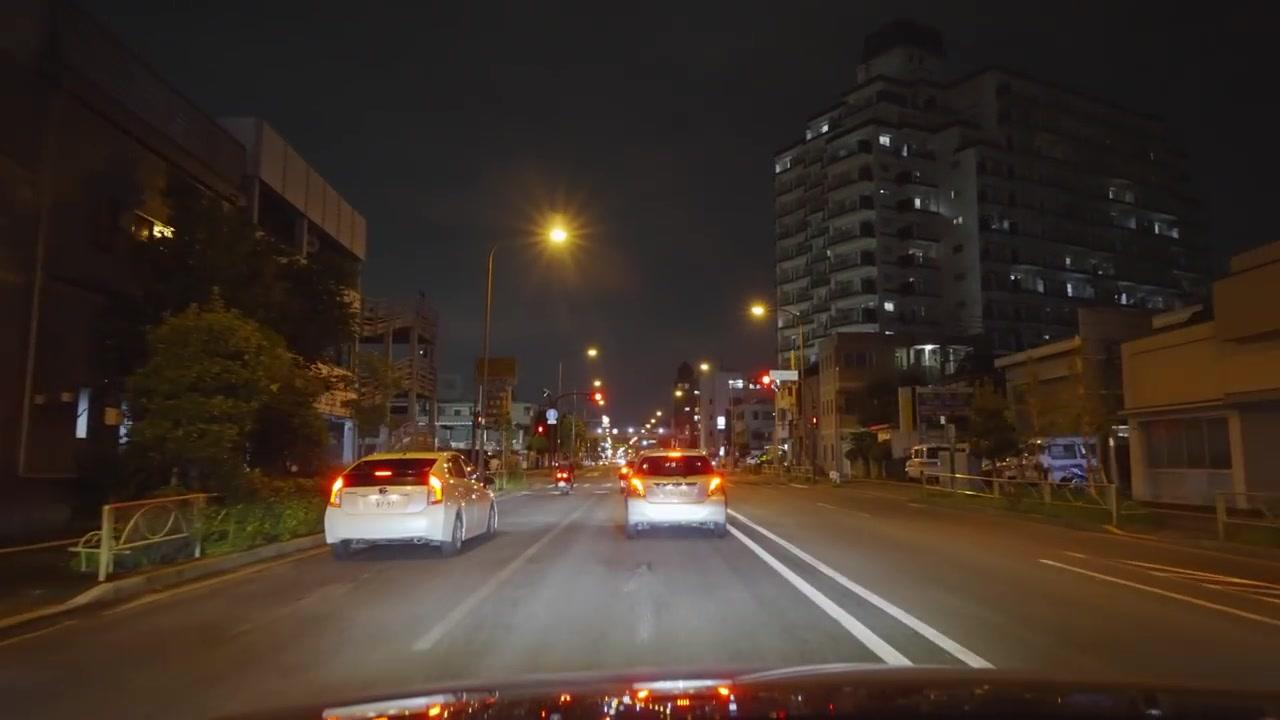car: (324, 450, 500, 559), (621, 449, 728, 540), (1037, 438, 1093, 485), (553, 461, 574, 494)
traffic light: (534, 422, 543, 435), (810, 415, 819, 426)
